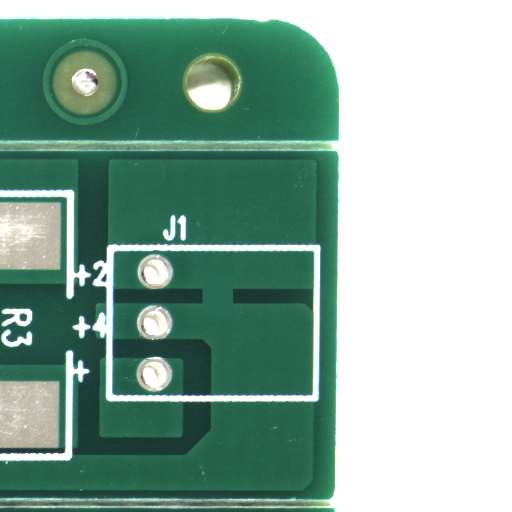Short: (216, 297, 268, 329)
